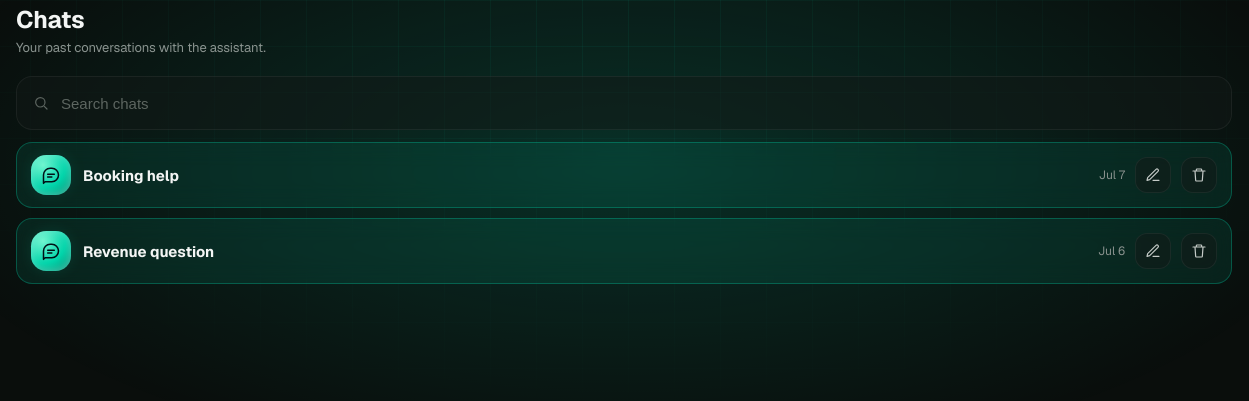
Conversations page › deletes a conversation after confirmation
Expected: the text "Booking help" is shown, [83,166,179,184]
Click the button named "delete chat" next to "Jul 7": (1199, 175) [1181,157,1217,193]
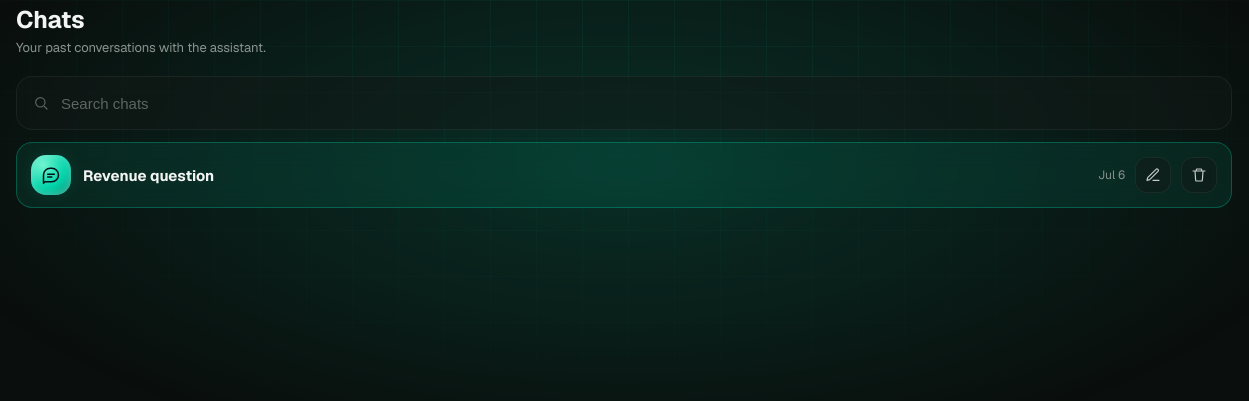
Result: the button "Booking help" is gone
